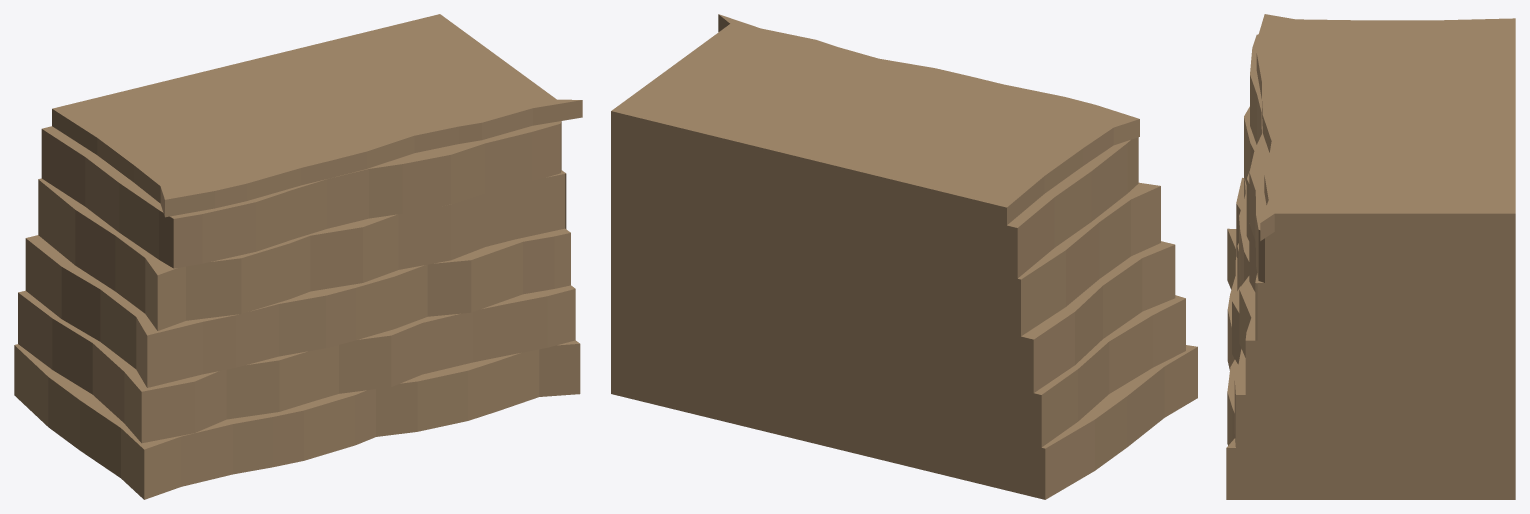
File: HokageRock.fbx
The picture shows the model from 3 angles, left to right: view 1: azimuth 30°, elevation 25°; view 2: azimuth 150°, elevation 25°; view 3: azimuth 270°, elevation 25°; orthographic projection. The views are drawn at different scales.
Visible parts, largest first — view 1: Cliff0.001; view 2: Cliff0.001; view 3: Cliff0.001.
Part boxes in pixels (x1,y1,x2,y2): Cliff0.001: (14,14,582,499); Cliff0.001: (611,14,1197,499); Cliff0.001: (1226,14,1515,499).
Size of the model in its own units: 12342 by 7200 by 6600.
